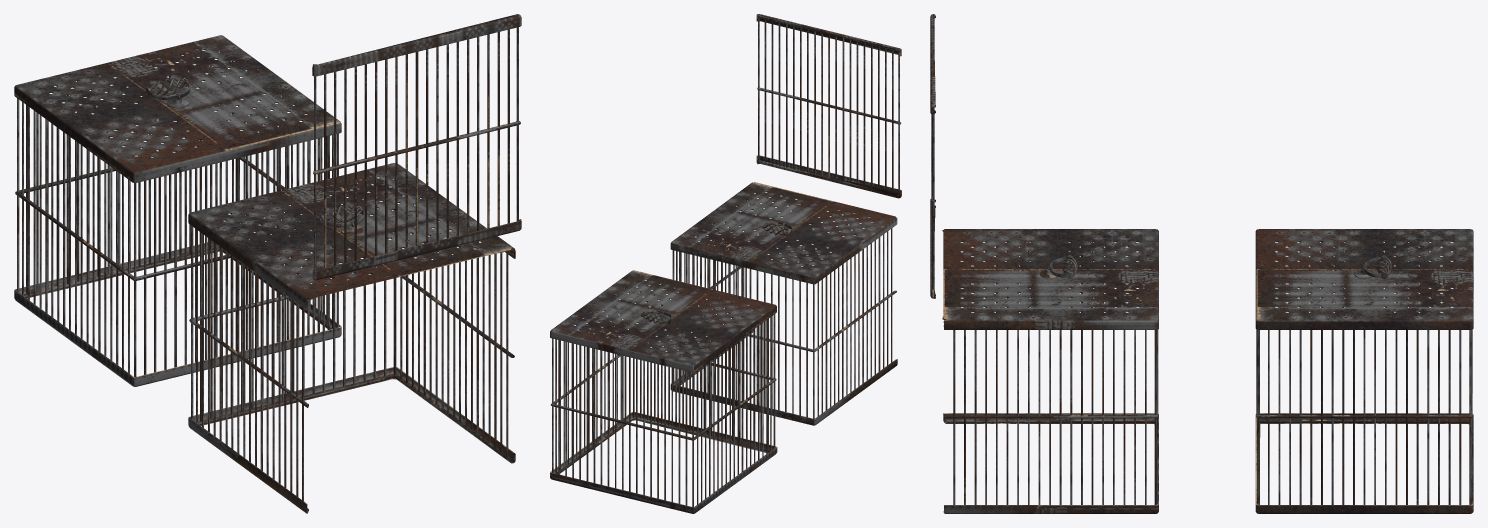
File: CagesTraps.fbx
The picture shows the model from 3 angles, left to right: view 1: azimuth 30°, elevation 25°; view 2: azimuth 150°, elevation 25°; view 3: azimuth 270°, elevation 25°; orthographic projection. The views are drawn at different scales.
Parts seen in each view (by area): view 1: Cylinder.009, Cylinder.001, Cylinder.002; view 2: Cylinder.009, Cylinder.001, Cylinder.002; view 3: Cylinder.009, Cylinder.001, Cylinder.002.
Part boxes in pixels (<box>): Cylinder.009: <box>14,35,341,386</box>; Cylinder.001: <box>188,163,515,513</box>; Cylinder.002: <box>312,14,521,280</box>; Cylinder.009: <box>550,270,777,513</box>; Cylinder.001: <box>670,182,897,425</box>; Cylinder.002: <box>756,14,901,198</box>; Cylinder.009: <box>1255,229,1473,513</box>; Cylinder.001: <box>942,229,1158,513</box>; Cylinder.002: <box>930,14,935,298</box>.
Size of the model in its own units: 84.92 by 176 by 212.
